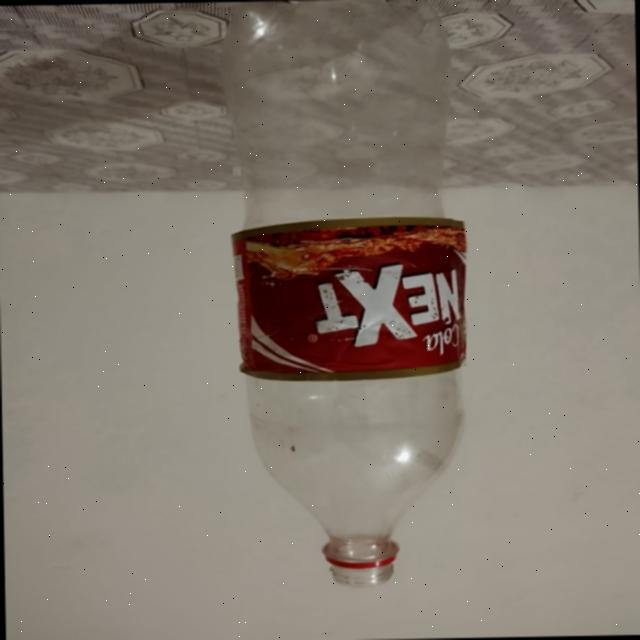bottle: (222, 0, 469, 592)
label: (235, 219, 464, 379)
